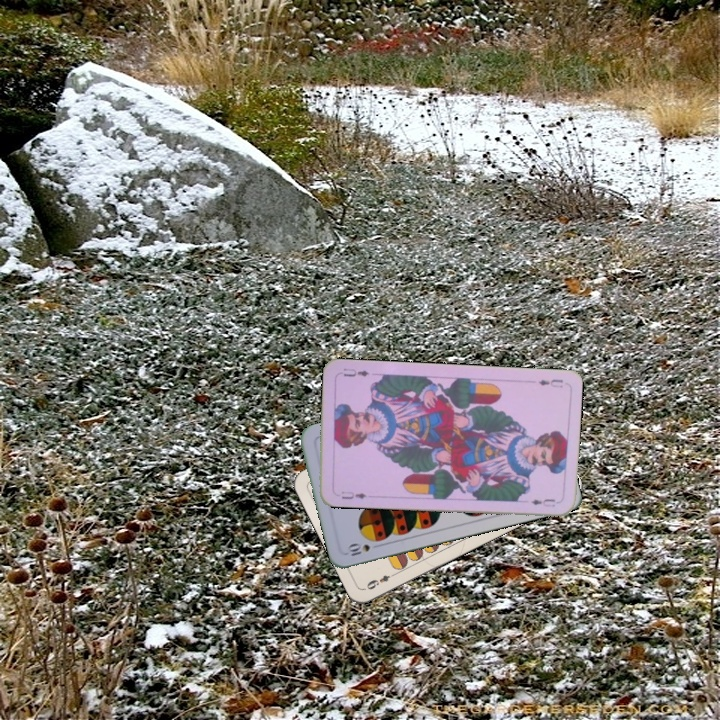E9: (362, 568, 399, 592)
EU: (337, 487, 369, 502), (534, 375, 566, 390)
S10: (343, 540, 383, 559)
